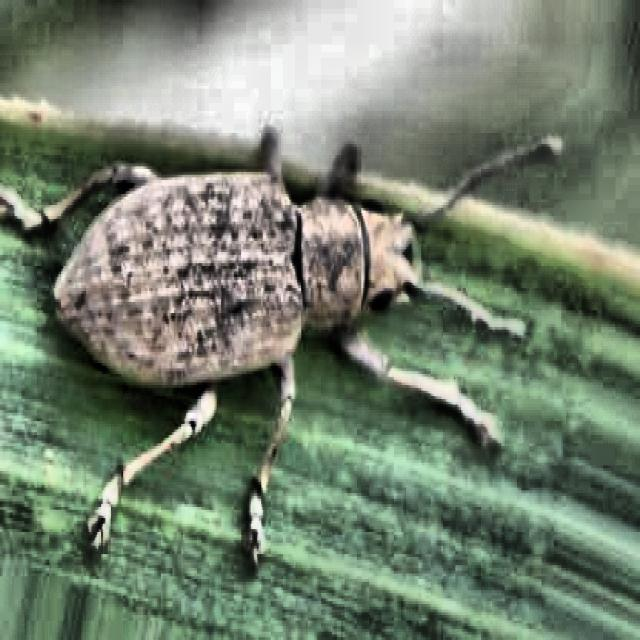Stink bug: (72, 0, 448, 477)
